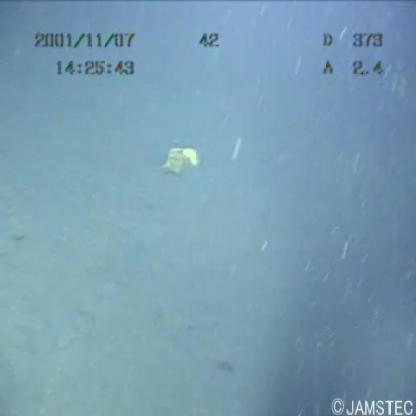Rác: (154, 135, 207, 179)
